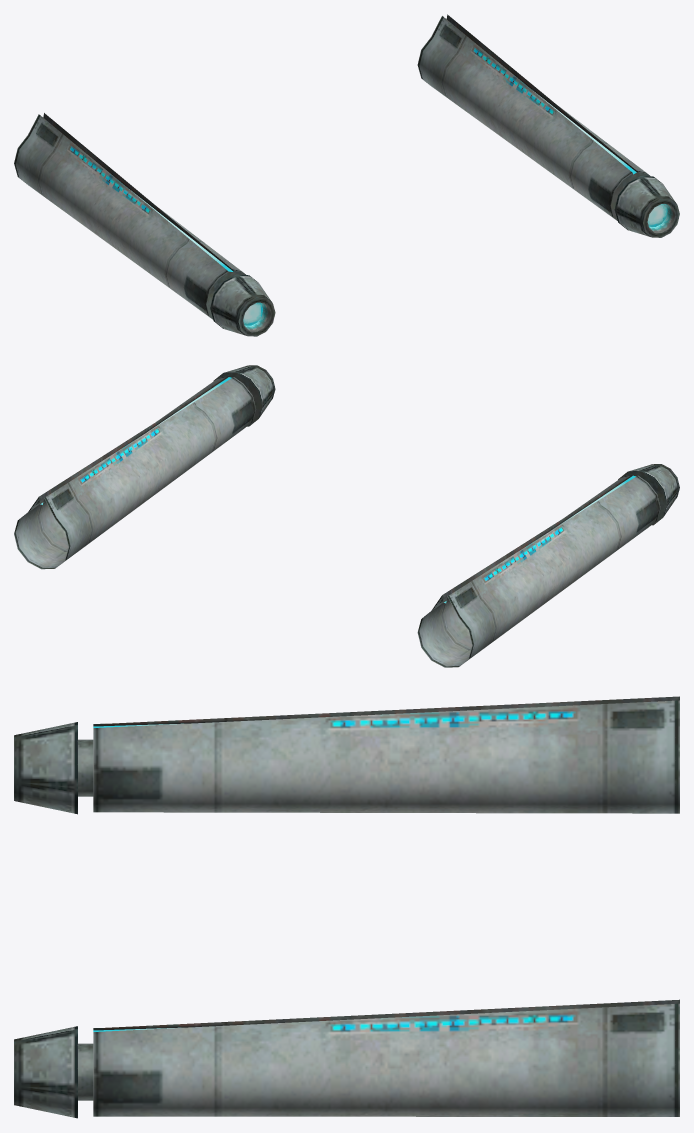
Rendered from hutt_fighter_heavy_weapon1_s02_l0.fbx.
The picture shows the model from 3 angles, top to bottom: view 1: azimuth 30°, elevation 25°; view 2: azimuth 150°, elevation 25°; view 3: azimuth 270°, elevation 25°; orthographic projection. The views are drawn at different scales.
Visible parts, largest first — view 1: mesh_node; view 2: mesh_node; view 3: mesh_node.
Part boxes in pixels (bbox=[...]): mesh_node: bbox=[14, 14, 679, 336]; mesh_node: bbox=[14, 365, 679, 667]; mesh_node: bbox=[14, 696, 679, 1118].
Bounding box in the file's own units: 2.69 × 0.4086 × 2.2.
Materials: 1 (1 with a texture image).
